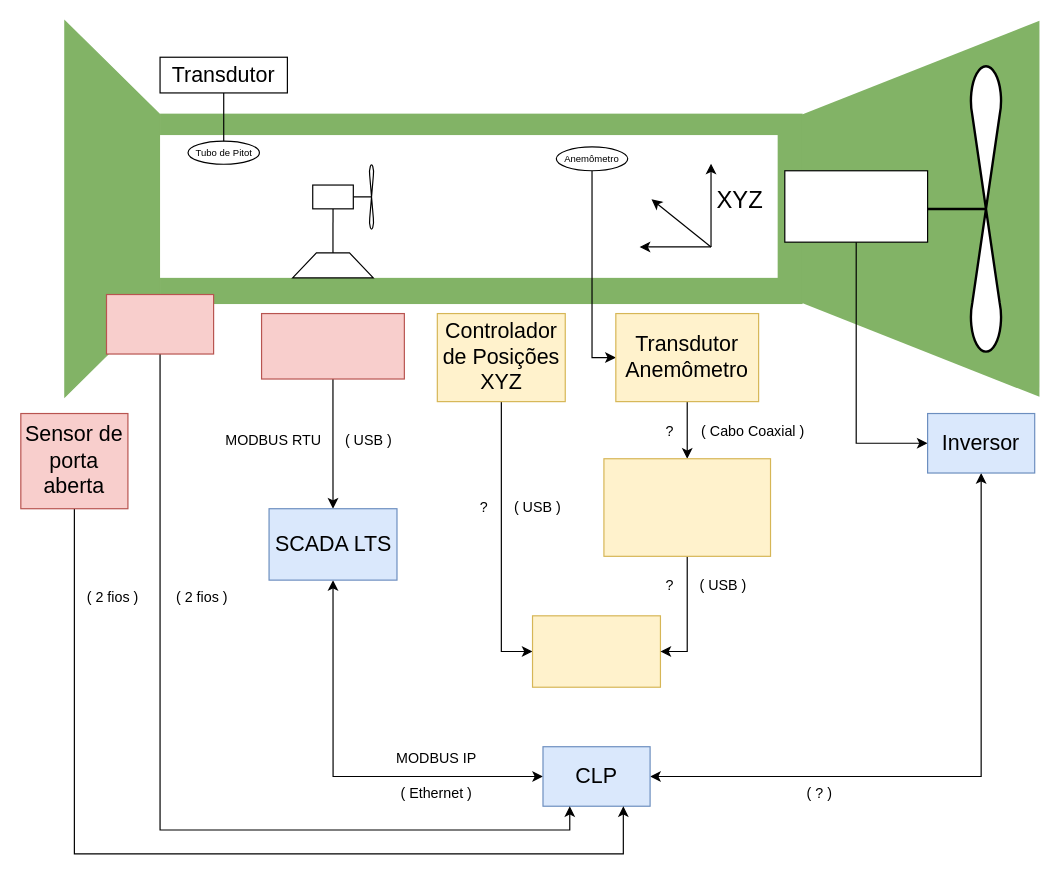
Image size: 1060x884. Some labels were removed from this diagram. The centre of each missing label's shape, as x and y in pixels:
Botão de Parada: (x=159, y=323)
Computador: (x=595, y=651)
Conversor Analógico-Digital (National): (x=687, y=507)
Dinamômetro R / T: (x=332, y=345)
Motor: (x=856, y=206)
